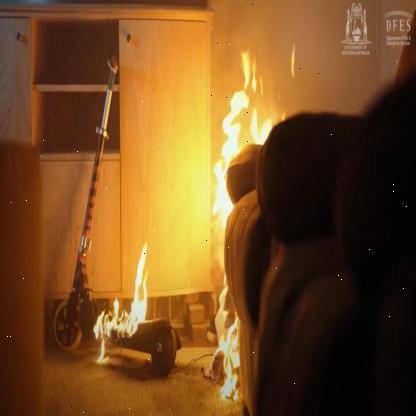fire: (200, 43, 286, 411), (90, 229, 155, 364)
